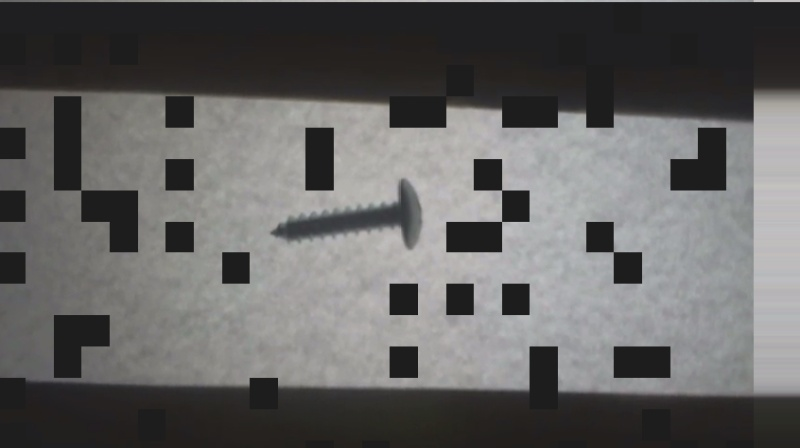S003: (265, 176, 426, 253)
